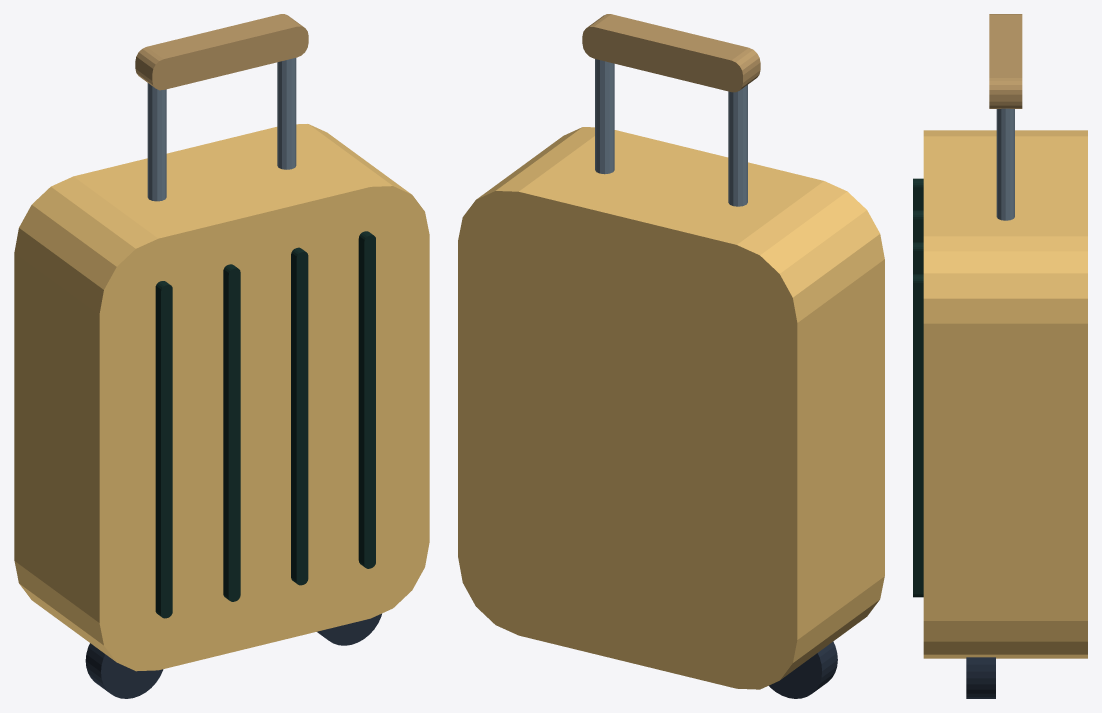
Rendered from suitcase.glb.
3 views of the same model, side by side, from view 1: azimuth 30°, elevation 25°; view 2: azimuth 150°, elevation 25°; view 3: azimuth 270°, elevation 25° (orthographic). The views are drawn at different scales.
Visible parts, largest first — view 1: hard shell, handle grip, rib 1, rib 0, rib 2, rib 3, telescopic -0.22, telescopic 0.22, caster -0.37, caster 0.37; view 2: hard shell, handle grip, telescopic -0.22, telescopic 0.22, caster -0.37; view 3: hard shell, rib 3, handle grip, telescopic 0.22, caster 0.37, rib 0, rib 1, rib 2.
Part boxes in pixels (box(x1,y1,x2,y2)): hard shell: box(14, 124, 429, 671); handle grip: box(135, 14, 308, 90); rib 1: box(223, 264, 240, 601); rib 0: box(155, 281, 172, 618); rib 2: box(291, 247, 308, 585); rib 3: box(358, 231, 375, 568); telescopic -0.22: box(147, 83, 166, 201); telescopic 0.22: box(277, 58, 296, 169); caster -0.37: box(85, 643, 163, 698); caster 0.37: box(317, 613, 381, 645); hard shell: box(458, 127, 884, 689); handle grip: box(582, 14, 760, 92); telescopic -0.22: box(728, 85, 747, 206); telescopic 0.22: box(595, 59, 614, 174); caster -0.37: box(769, 641, 837, 698); hard shell: box(923, 130, 1087, 658); rib 3: box(913, 274, 923, 597); handle grip: box(989, 14, 1022, 108); telescopic 0.22: box(996, 108, 1014, 220); caster 0.37: box(966, 657, 995, 698); rib 0: box(913, 178, 923, 210); rib 1: box(913, 210, 923, 242); rib 2: box(913, 242, 923, 274).
Size of the model in its own units: 1.12 by 2.01 by 0.5325.
